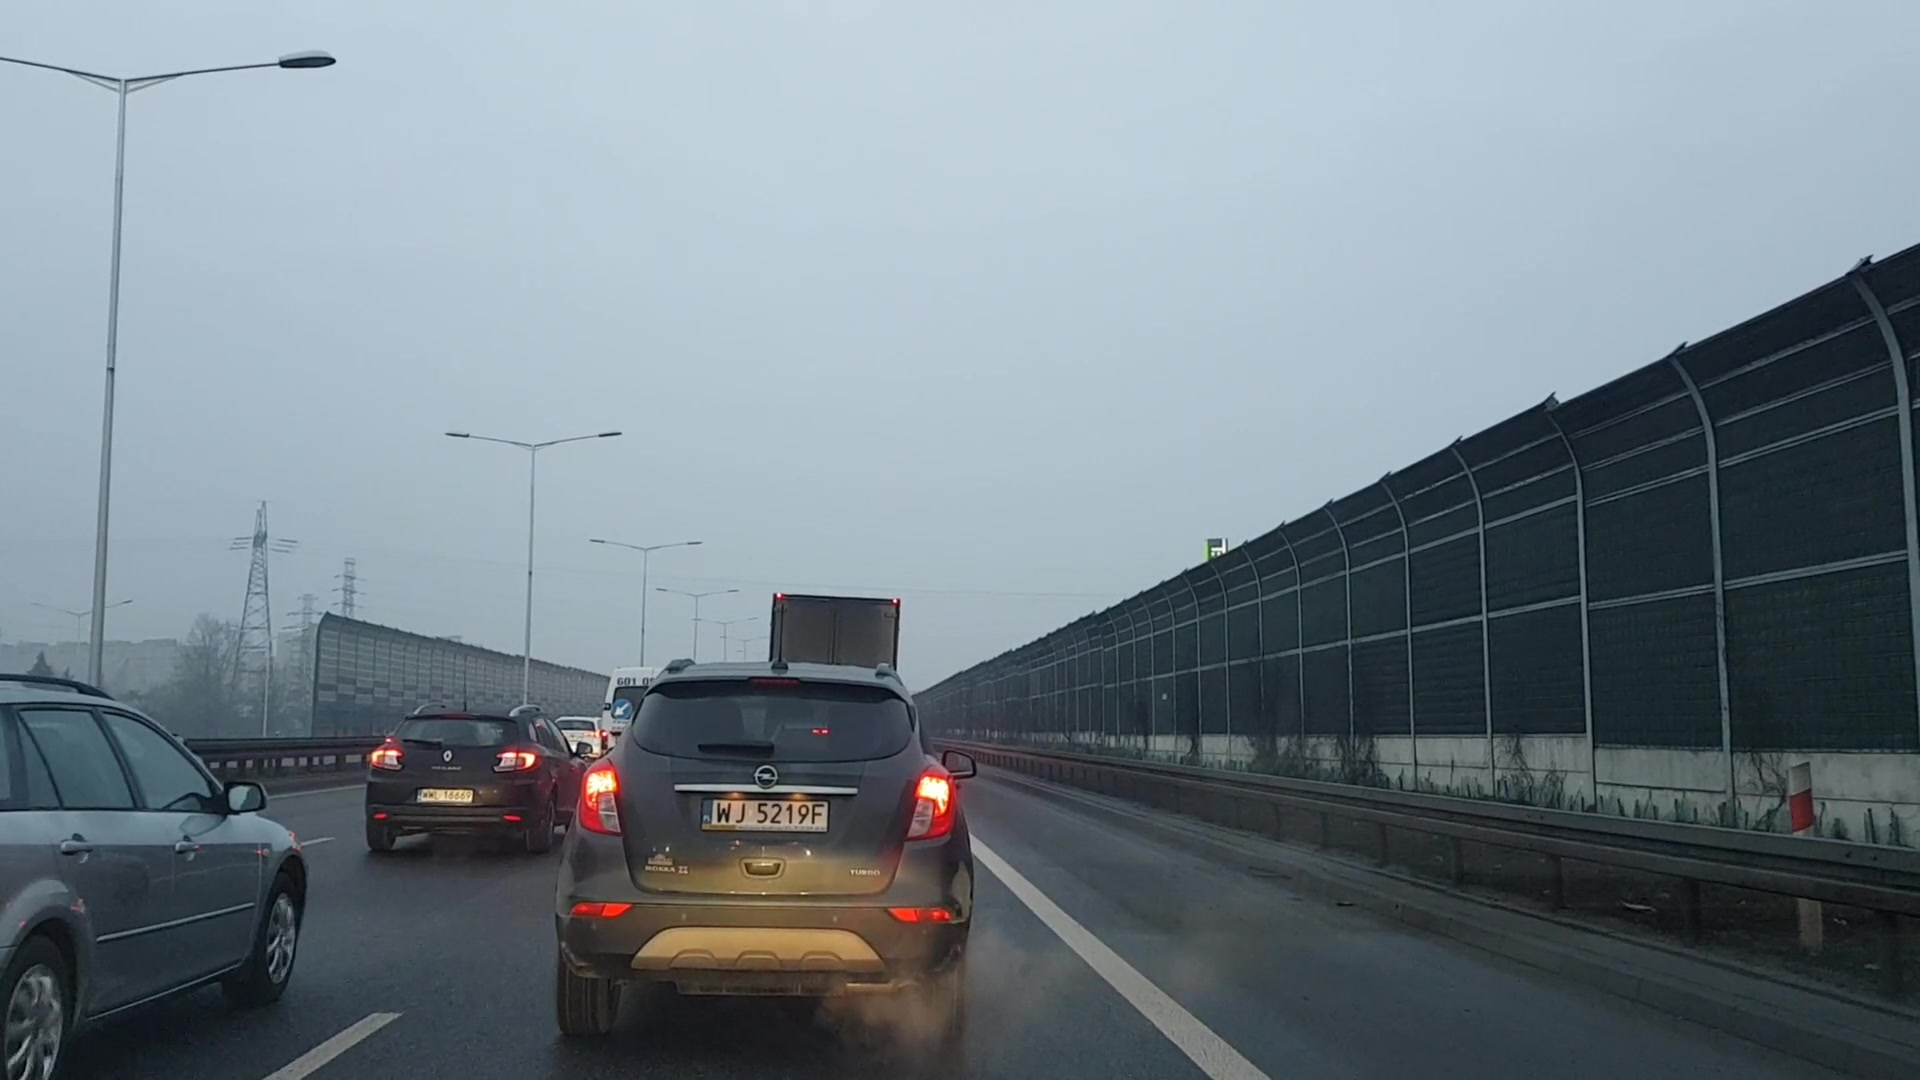car: (547, 658, 975, 1058), (5, 673, 309, 1076), (373, 687, 578, 858)
